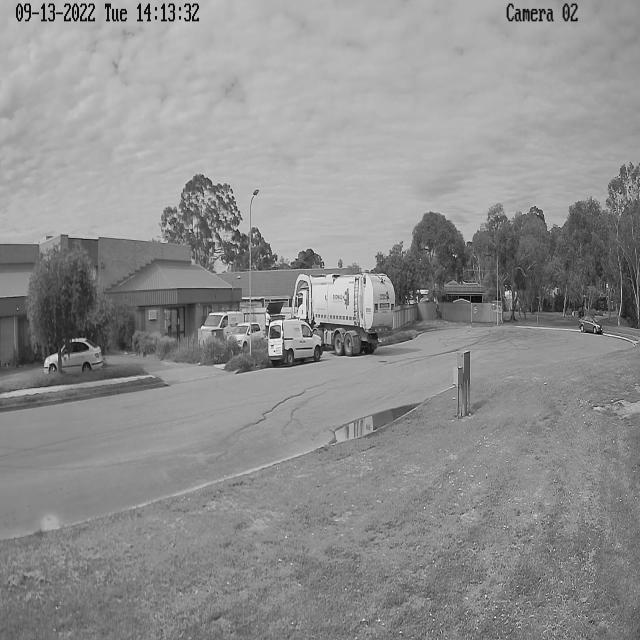Garbage Truck: (292, 273, 396, 356)
Sedan: (267, 320, 323, 368), (44, 338, 103, 374)
